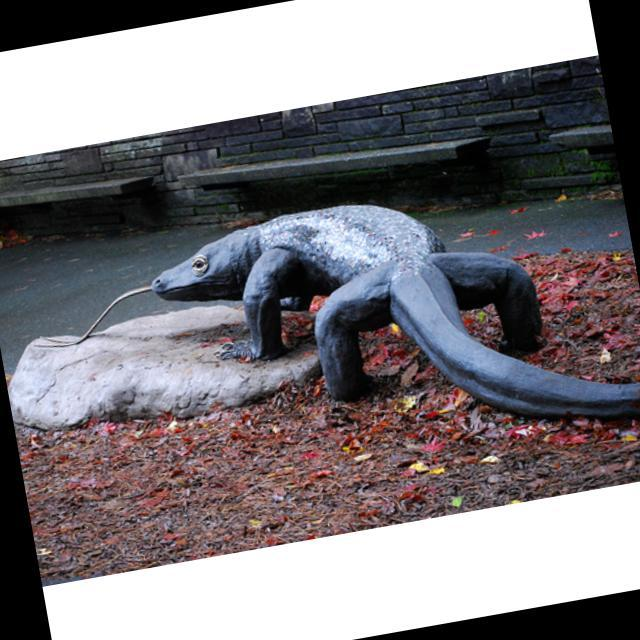KomodoDragon: (56, 153, 640, 499)
